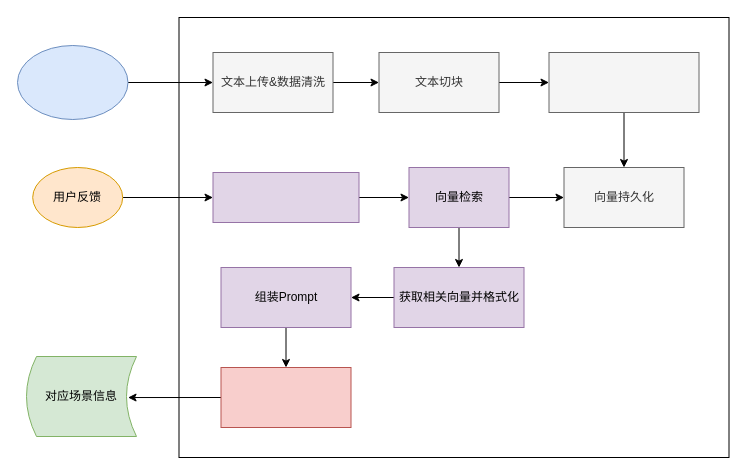
This 747x475 diagram has some shape labels left out. Each missing label, with the centre of its shape:
"ALog平台所有日志场景信息" goes at (x=72, y=82).
"文本向量化&embedding" goes at (x=623, y=82).
"请求LLM" goes at (x=285, y=397).
"问题向量化&embedding" goes at (x=285, y=197).
